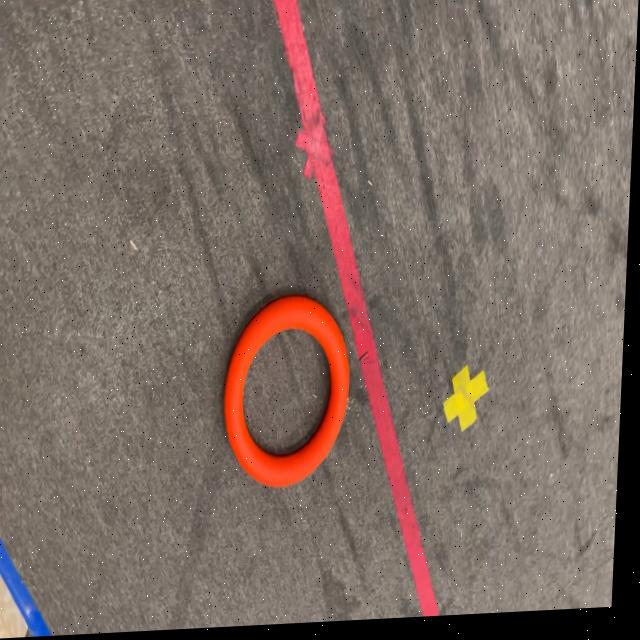note: (225, 299, 356, 493)
